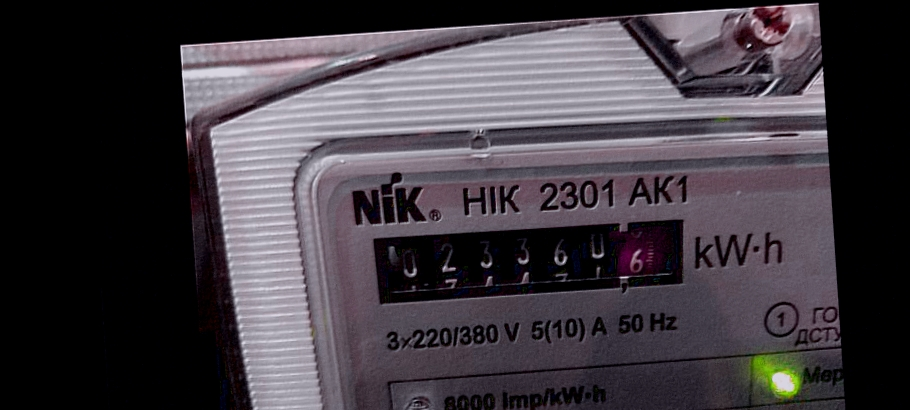0: (399, 245, 422, 279), (589, 229, 608, 261)
2: (436, 239, 461, 275)
3: (474, 237, 497, 270), (513, 234, 534, 266)
6: (549, 234, 571, 267), (625, 244, 648, 274)
screen: (355, 200, 703, 320)
